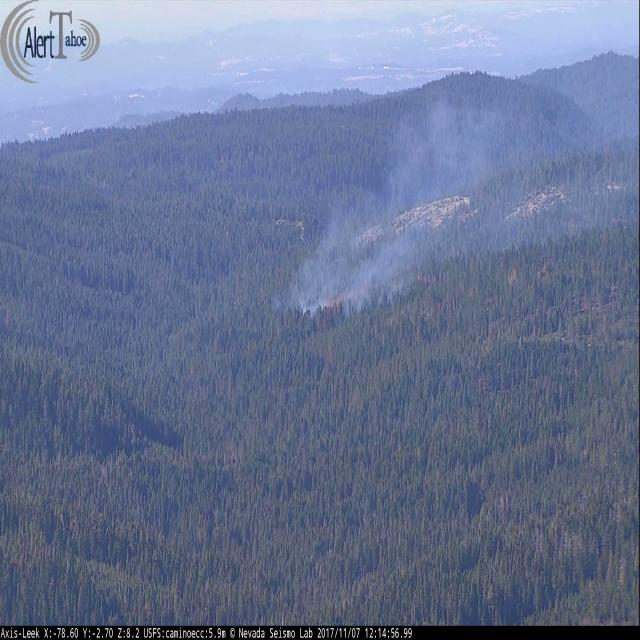smoke: (278, 55, 640, 320)
